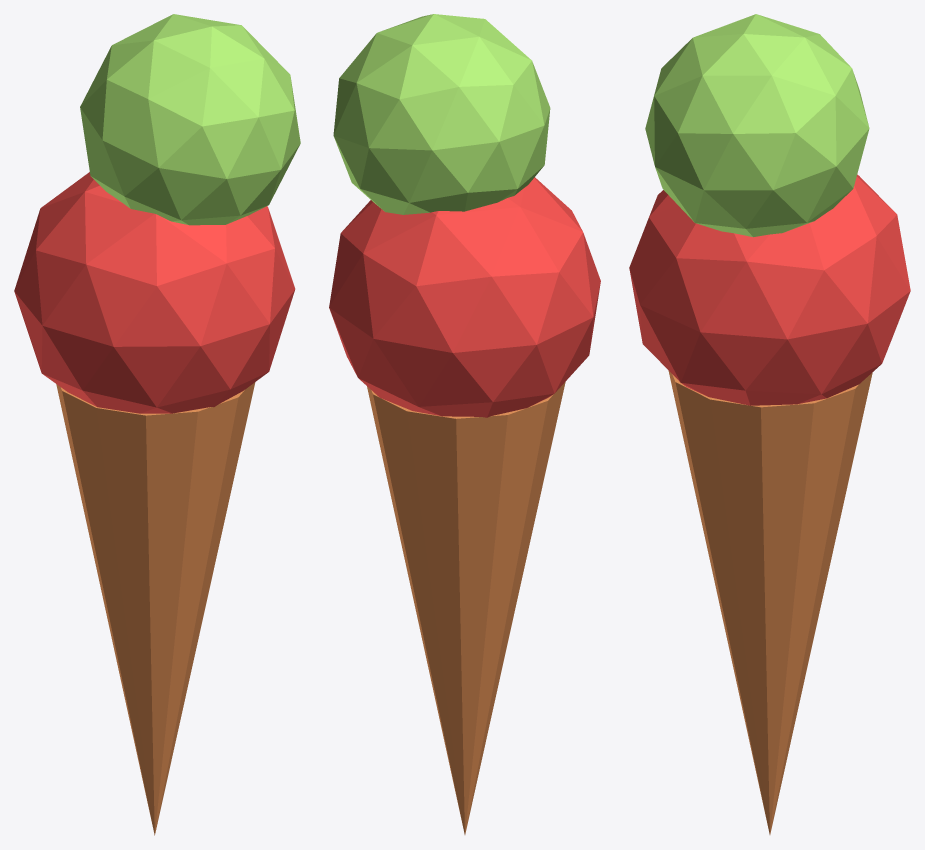
The model's file is icecream_prop.fbx.
The picture shows the model from 3 angles, left to right: view 1: azimuth 30°, elevation 25°; view 2: azimuth 150°, elevation 25°; view 3: azimuth 270°, elevation 25°; orthographic projection. The views are drawn at different scales.
Visible parts, largest first — view 1: icecream.001; view 2: icecream.001; view 3: icecream.001.
Part boxes in pixels (<box>): icecream.001: <box>14,14,300,835</box>; icecream.001: <box>329,14,600,834</box>; icecream.001: <box>629,14,910,834</box>.
Size of the model in its own units: 55.53 by 174 by 53.99.
